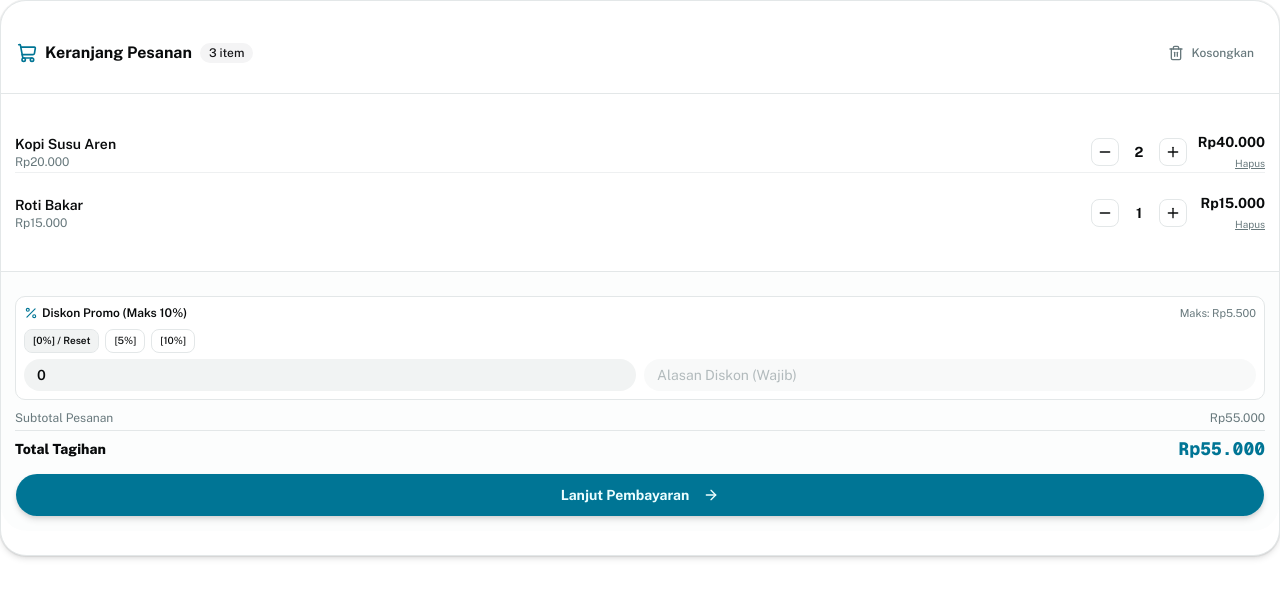
Test: CartPanel Quick Discount Presets (BR-05) › resets discount to 0 and clears reason when [0%] / Reset is clicked
Note: Apply 10% first
Click the button "[10%]" at (173, 341), box [151,329,195,353]
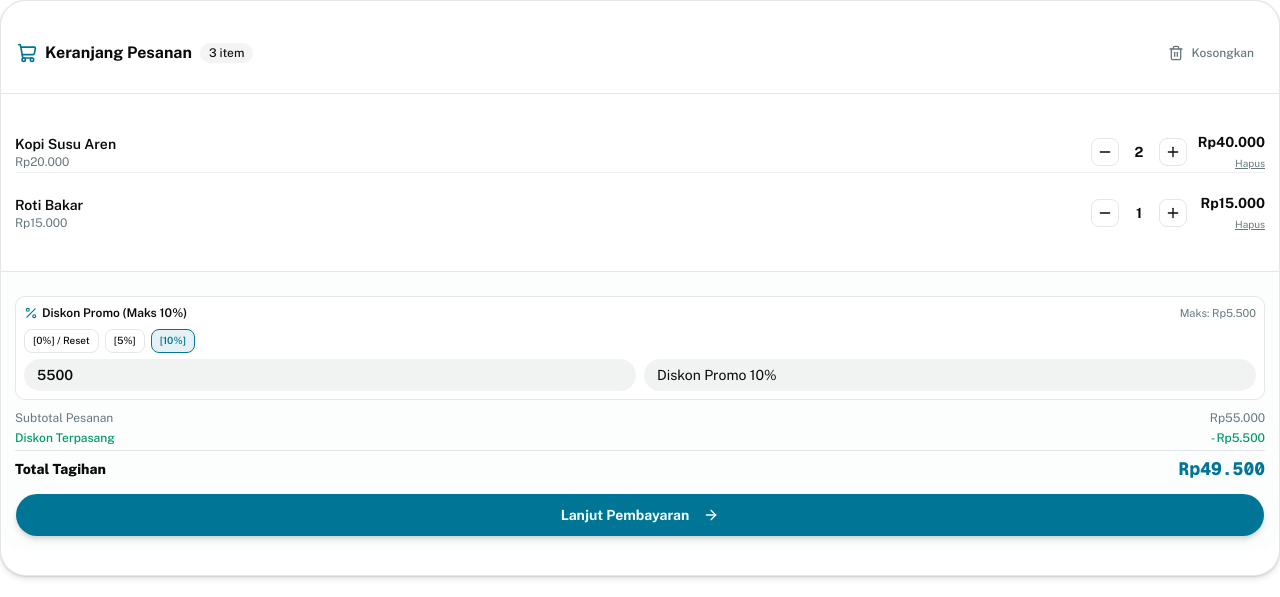
Note: Then reset
Click the button "[0%] / Reset" at (61, 341), box [24,329,99,353]
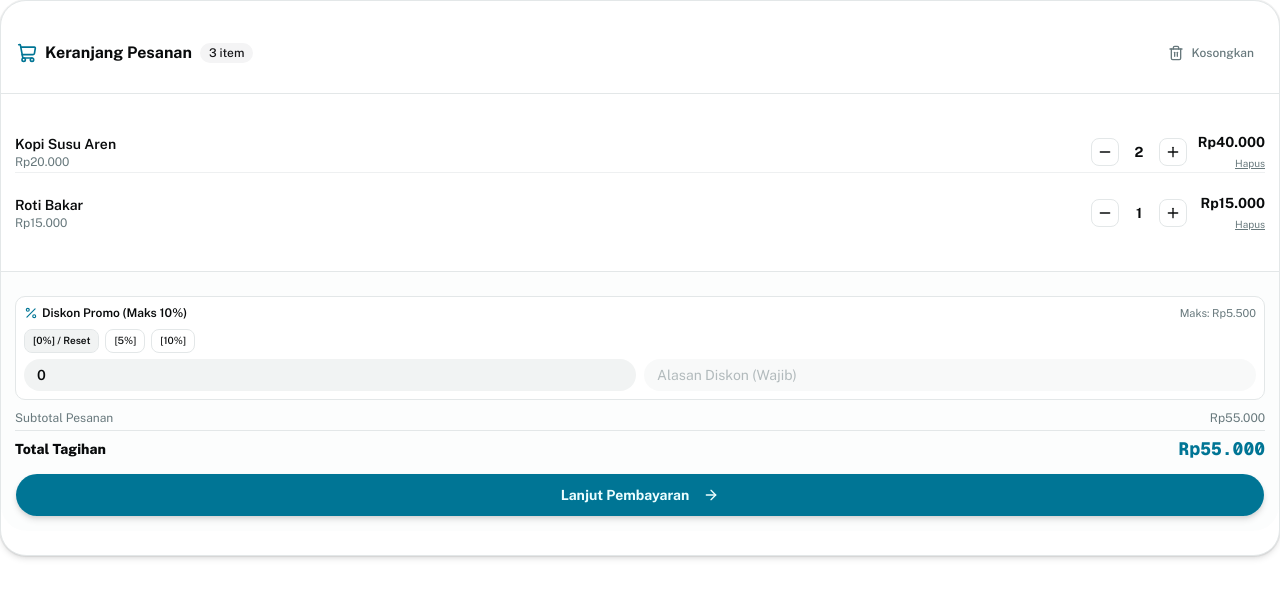
Now the number field with placeholder "Nominal Rp" holds "0", box [24,359,636,391]
Now the field with placeholder "Alasan Diskon (Wajib)" is empty, box [644,359,1256,391]
